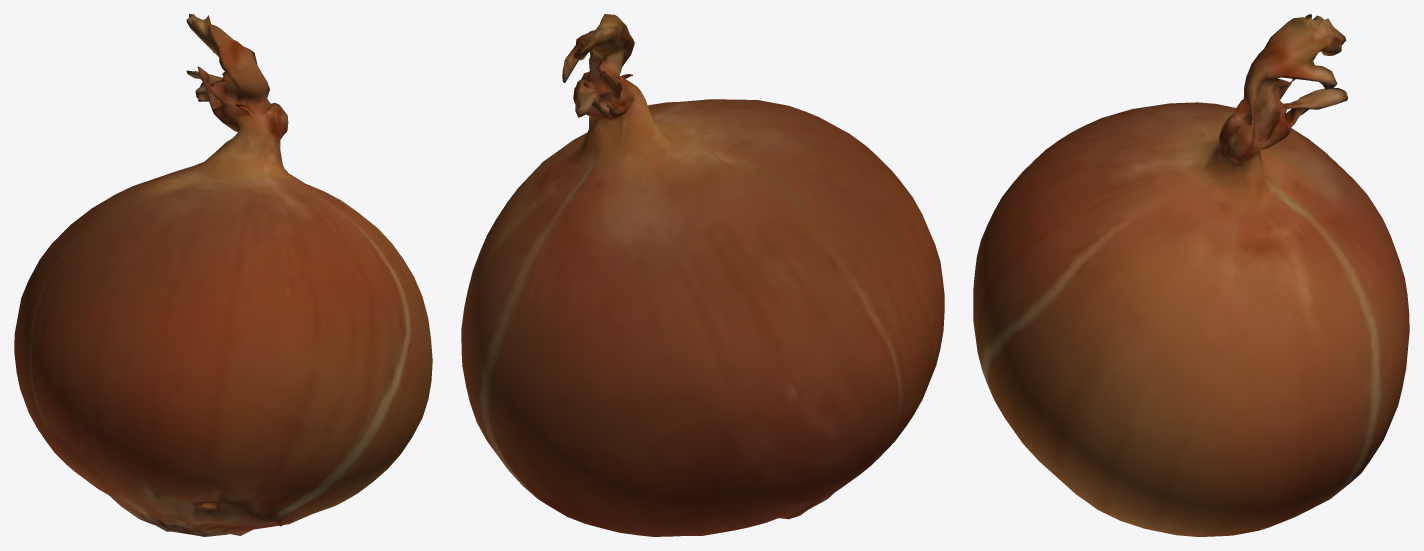
The model's file is yellow_onion.glb.
3 renders of one model, left to right at view 1: azimuth 30°, elevation 25°; view 2: azimuth 150°, elevation 25°; view 3: azimuth 270°, elevation 25°, orthographic. The views are drawn at different scales.
Parts seen in each view (by area): view 1: yellow_onion; view 2: yellow_onion; view 3: yellow_onion.
Boxes of the visible parts, x1,y1,x2,y2 form: yellow_onion: (14, 14, 432, 536); yellow_onion: (461, 14, 944, 536); yellow_onion: (973, 14, 1409, 536).
Size of the model in its own units: 0.0725 by 0.0864 by 0.0686.
1 material, 1 textured.
